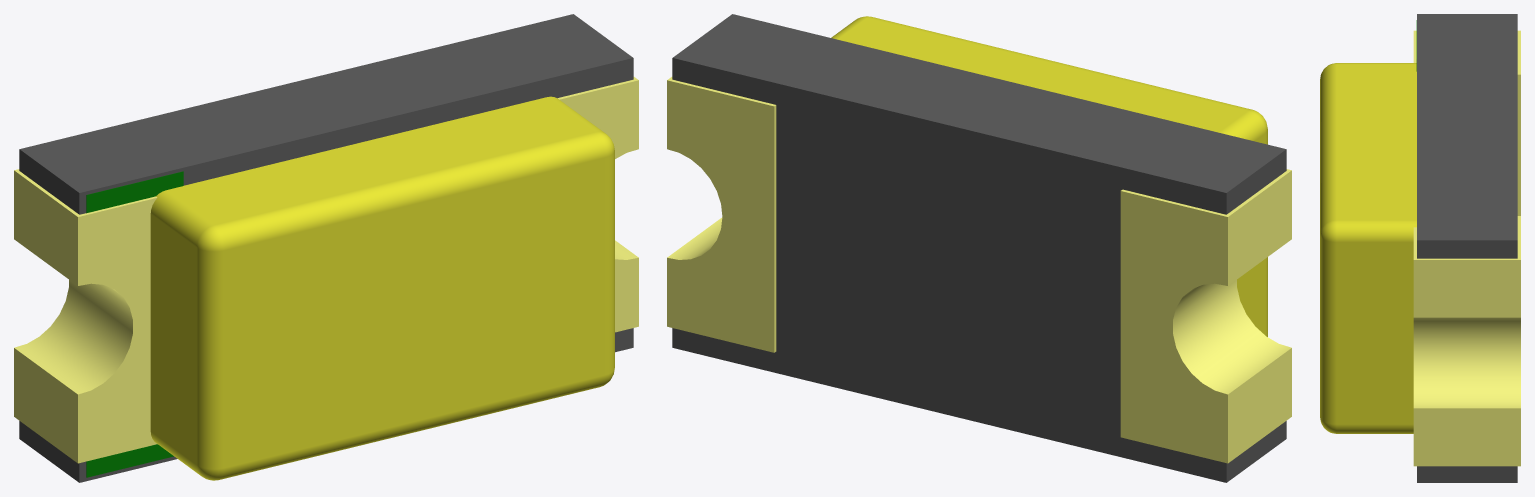
File: LED_0603_Y-c1a8de6833a7.glb
The picture shows the model from 3 angles, left to right: view 1: azimuth 30°, elevation 25°; view 2: azimuth 150°, elevation 25°; view 3: azimuth 270°, elevation 25°; orthographic projection. The views are drawn at different scales.
Parts seen in each view (by area): view 1: material2, material1, material0, material3; view 2: material1, material0, material2; view 3: material2, material1, material0.
Part boxes in pixels (<box>): material2: <box>150,96,614,480</box>; material1: <box>19,14,633,482</box>; material0: <box>14,77,638,463</box>; material3: <box>86,171,183,477</box>; material1: <box>672,14,1286,482</box>; material0: <box>667,77,1291,463</box>; material2: <box>831,16,1267,336</box>; material2: <box>1320,63,1416,433</box>; material1: <box>1417,14,1517,482</box>; material0: <box>1413,30,1520,466</box>.
Size of the model in its own units: 1.62 by 0.8 by 0.6.
